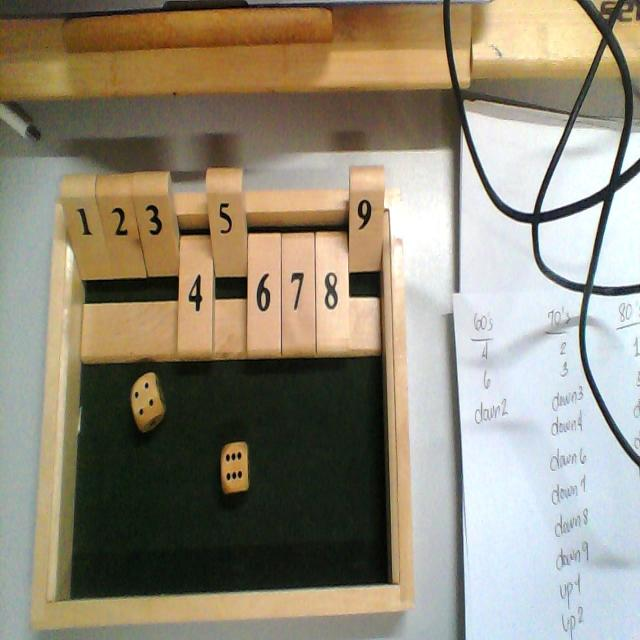4: (124, 368, 168, 438)
6: (212, 430, 258, 502)
C4: (177, 195, 212, 361)
C6: (246, 189, 282, 361)
C7: (282, 189, 316, 356)
C8: (314, 188, 350, 357)
O1: (61, 174, 110, 374)
O2: (97, 172, 148, 368)
O3: (134, 172, 178, 367)
O5: (210, 168, 248, 360)
O9: (349, 165, 385, 357)
